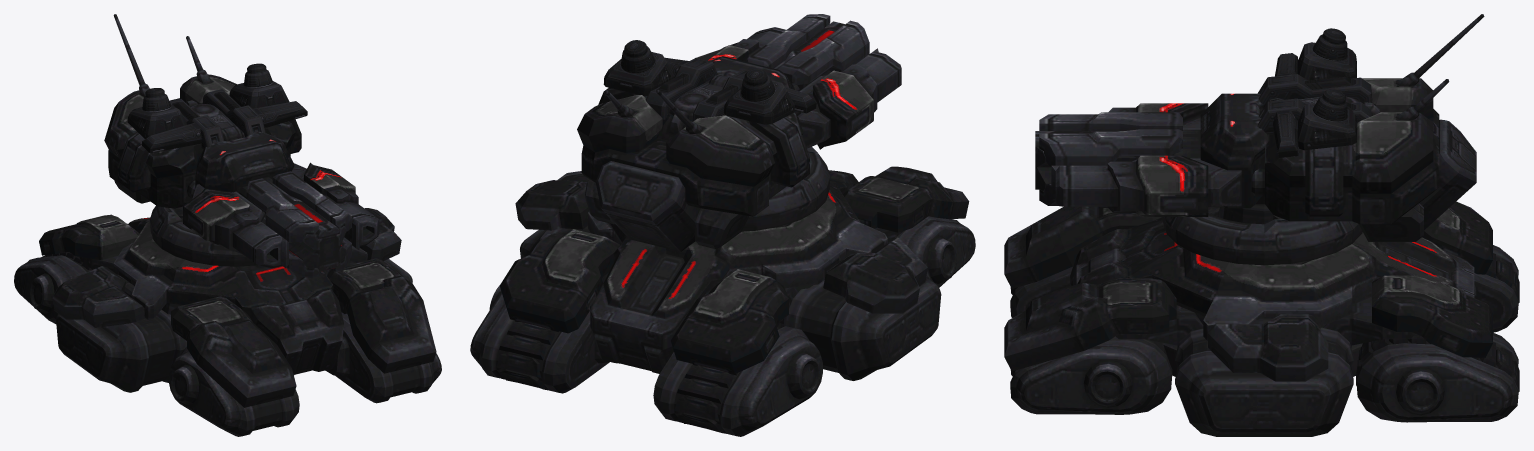
File: Tank.obj
3 views of the same model, side by side, from view 1: azimuth 30°, elevation 25°; view 2: azimuth 150°, elevation 25°; view 3: azimuth 270°, elevation 25° (orthographic). The views are drawn at different scales.
Visible parts, largest first — view 1: Shadow_SiegeTank.m3.001; view 2: Shadow_SiegeTank.m3.001; view 3: Shadow_SiegeTank.m3.001.
Boxes of the visible parts, bbox=[...] form: Shadow_SiegeTank.m3.001: bbox=[14, 14, 441, 436]; Shadow_SiegeTank.m3.001: bbox=[470, 14, 975, 436]; Shadow_SiegeTank.m3.001: bbox=[1004, 14, 1519, 436].
Size of the model in its own units: 2.71 by 2.14 by 3.03.
2 materials, 2 textured.
